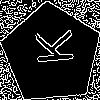K: (26, 29, 74, 66)
